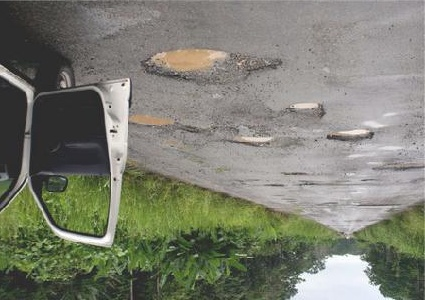pothole: (138, 46, 284, 87), (127, 113, 181, 132), (325, 128, 376, 144), (287, 99, 327, 118), (231, 134, 275, 148), (373, 162, 424, 174), (280, 169, 310, 178)
